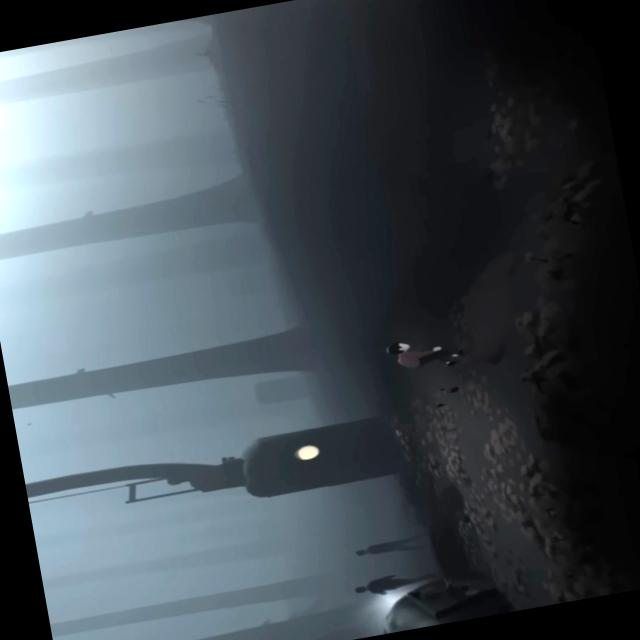boy: (382, 332, 460, 377)
